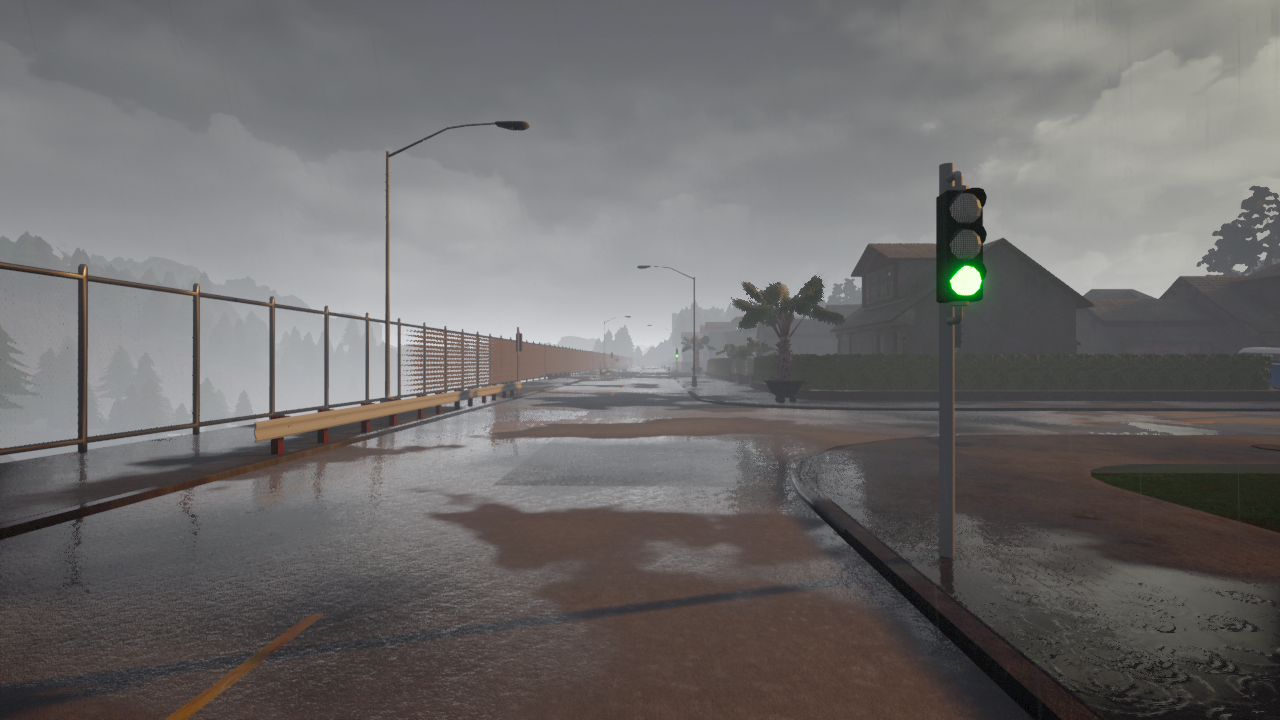green: (932, 185, 988, 302)
